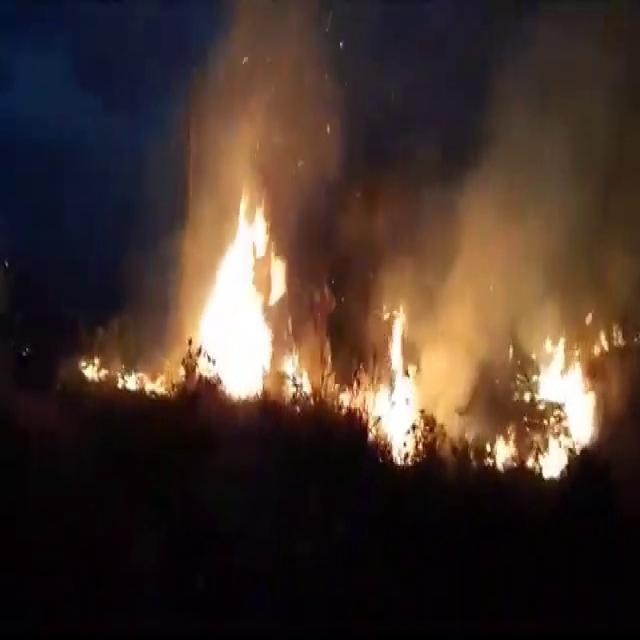Fire: (192, 190, 308, 404), (490, 326, 601, 474), (350, 317, 428, 468), (75, 343, 162, 396)
Smoke: (384, 4, 640, 338), (196, 0, 349, 284)
